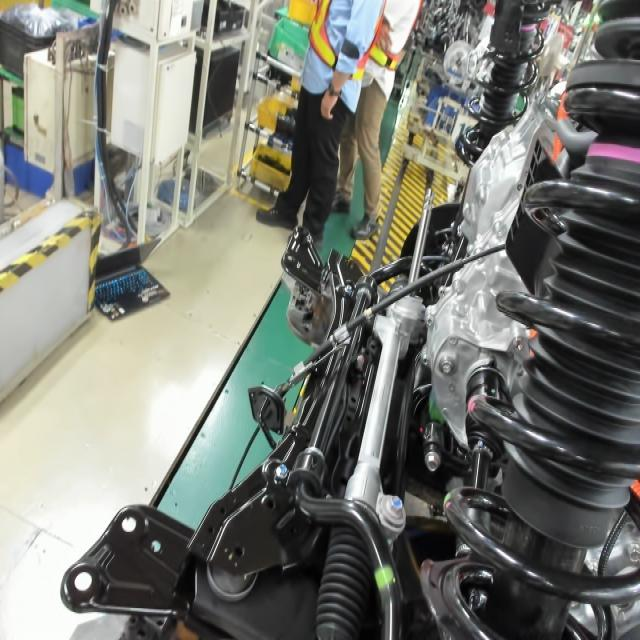Bar Stabilizer-HJ: (370, 553, 400, 596)
Bumper-PK: (583, 135, 640, 168)
